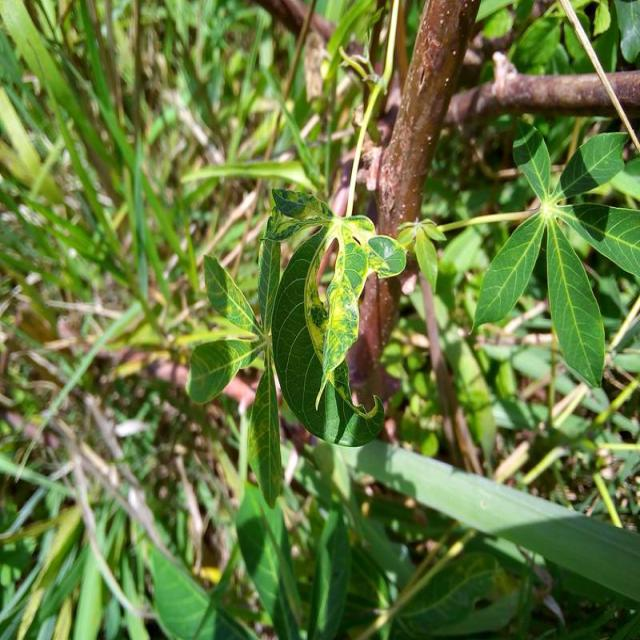cassava leaf: (472, 122, 638, 389), (270, 223, 386, 447)
